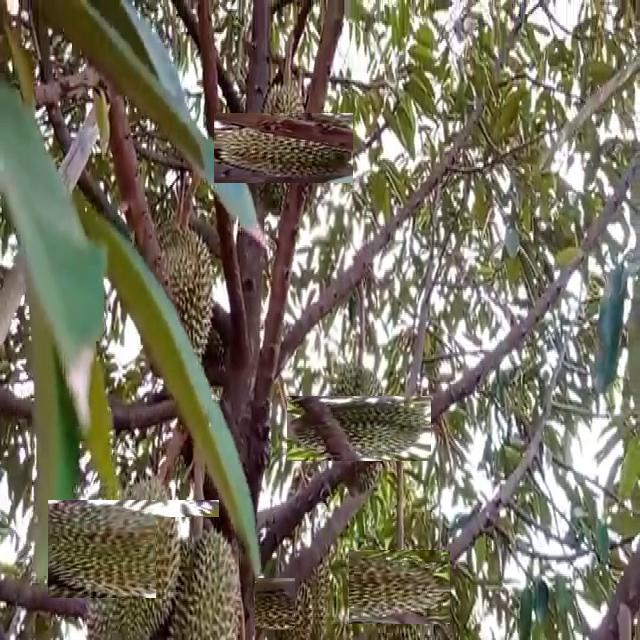durian: (66, 482, 201, 616), (133, 218, 219, 375), (231, 95, 336, 200), (306, 376, 411, 481), (156, 517, 245, 638), (355, 543, 443, 631), (258, 574, 318, 634), (295, 556, 335, 638)
